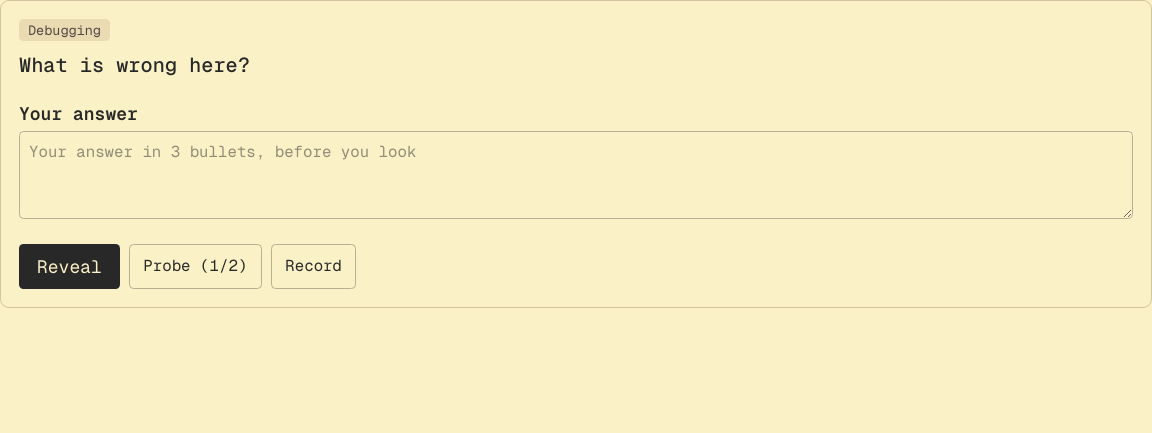
it: QuestionCard follow-ups (pre-reveal, "Probe me") › follow-ups stay hidden until probed, one at a time
Expected: the text "First follow-up?" is not shown
Click the button "Probe (1/2)": (195,266) top-left (129, 244), bottom-right (262, 289)
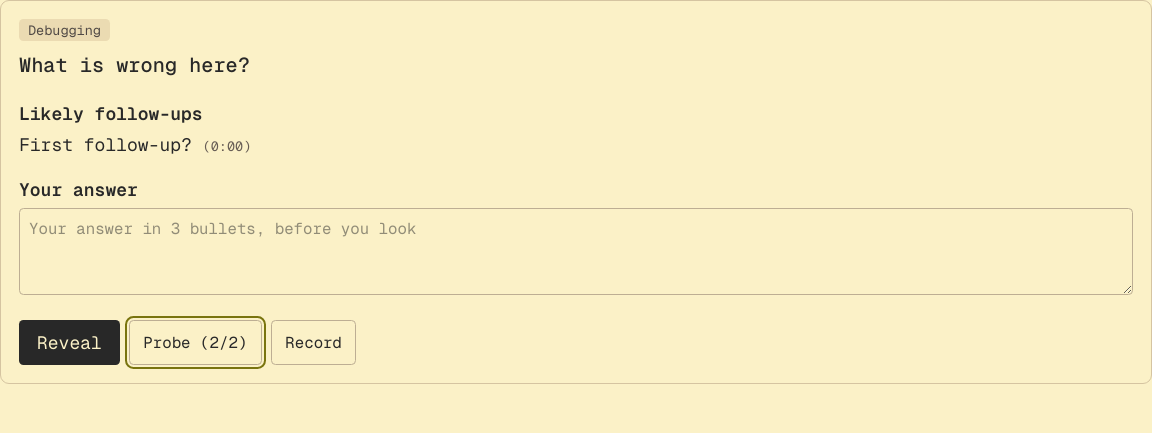
Expected: the text "Second follow-up?" is not shown
Now the list item "First follow-up?" is shown, box top-left (19, 134), bottom-right (192, 156)
Click the button "Probe (2/2)": (195,343) top-left (129, 320), bottom-right (262, 366)
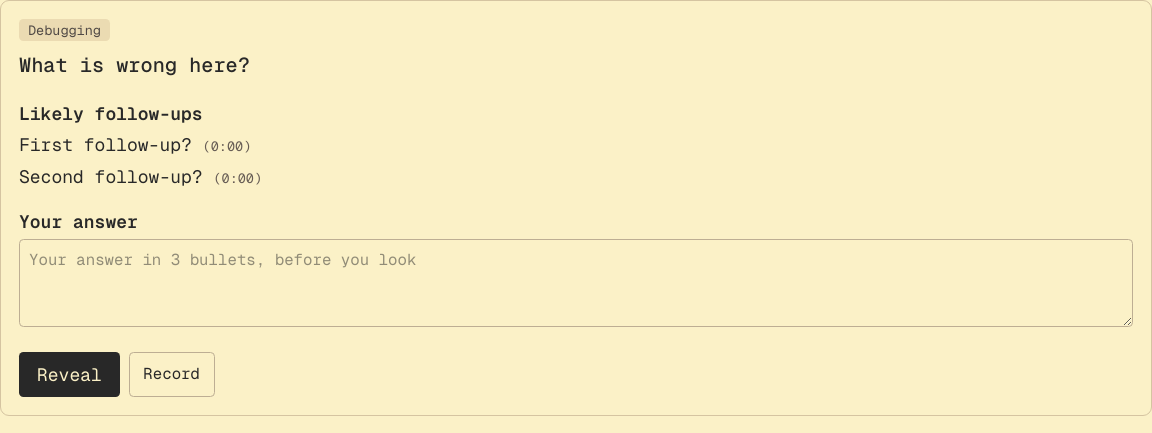
Now the list item "Second follow-up?" is shown, box top-left (19, 165), bottom-right (203, 188)
Now the button "Probe" is gone
